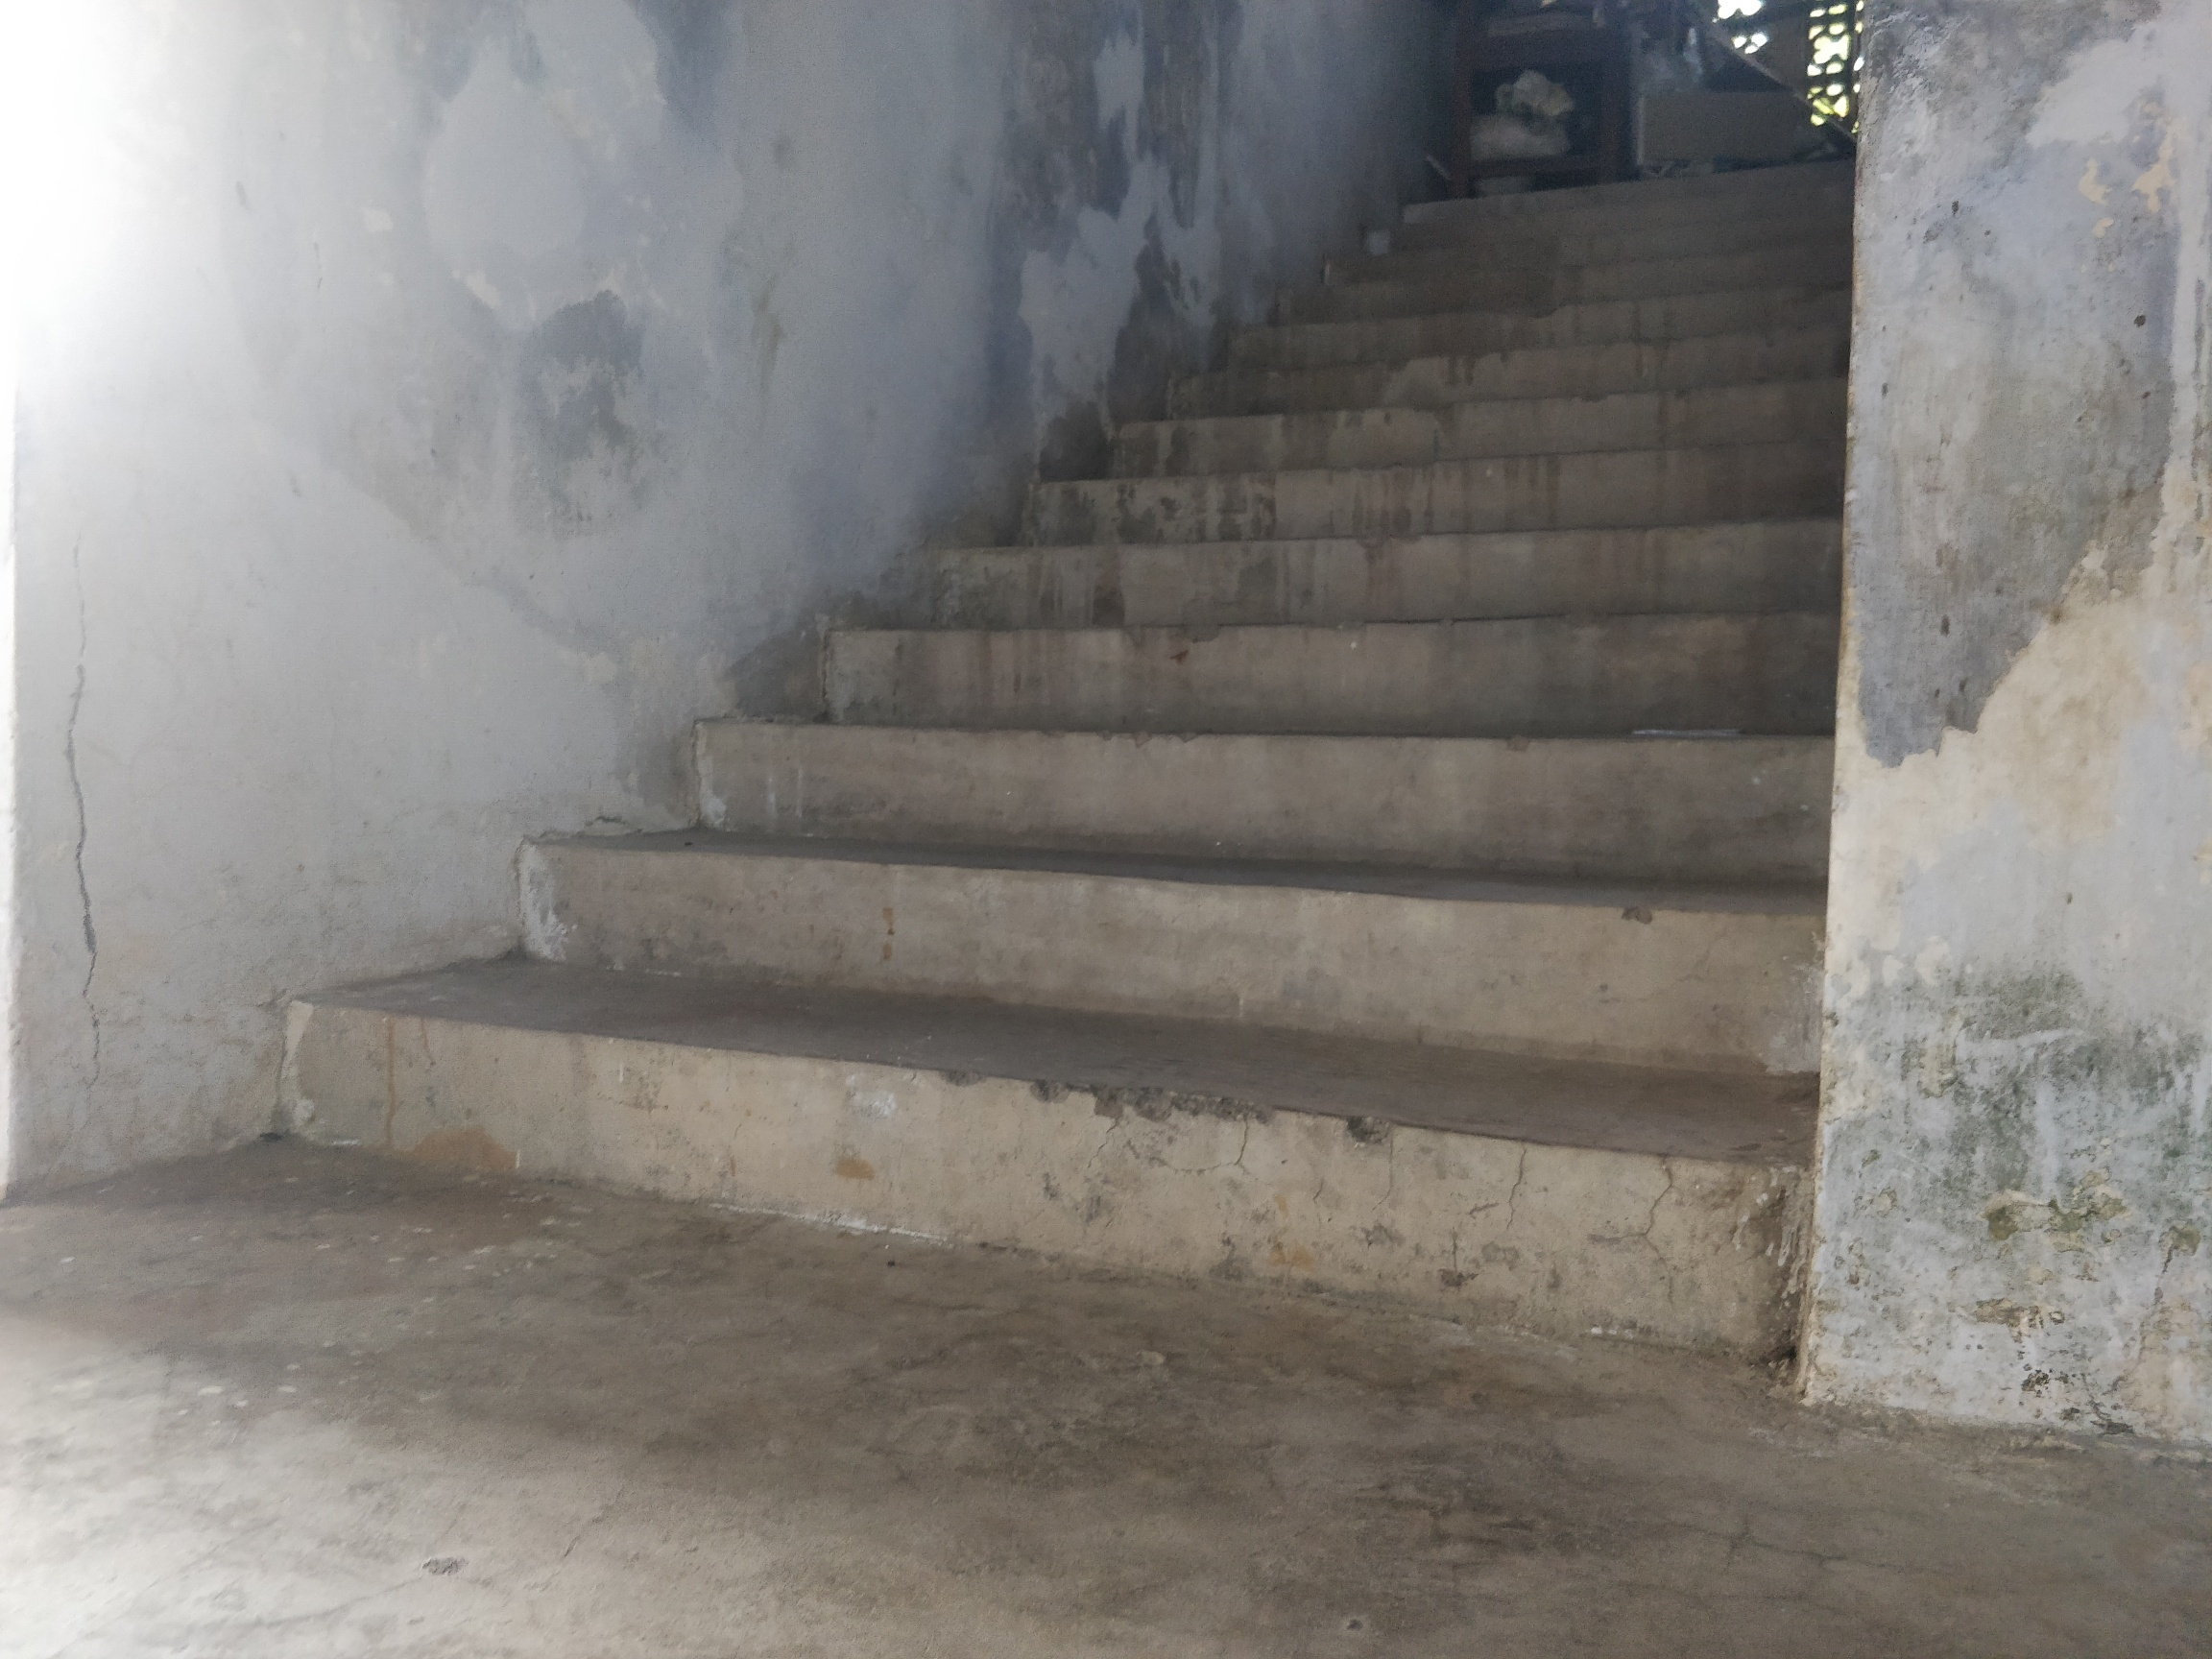stairs_up: (207, 132, 1834, 1321)
